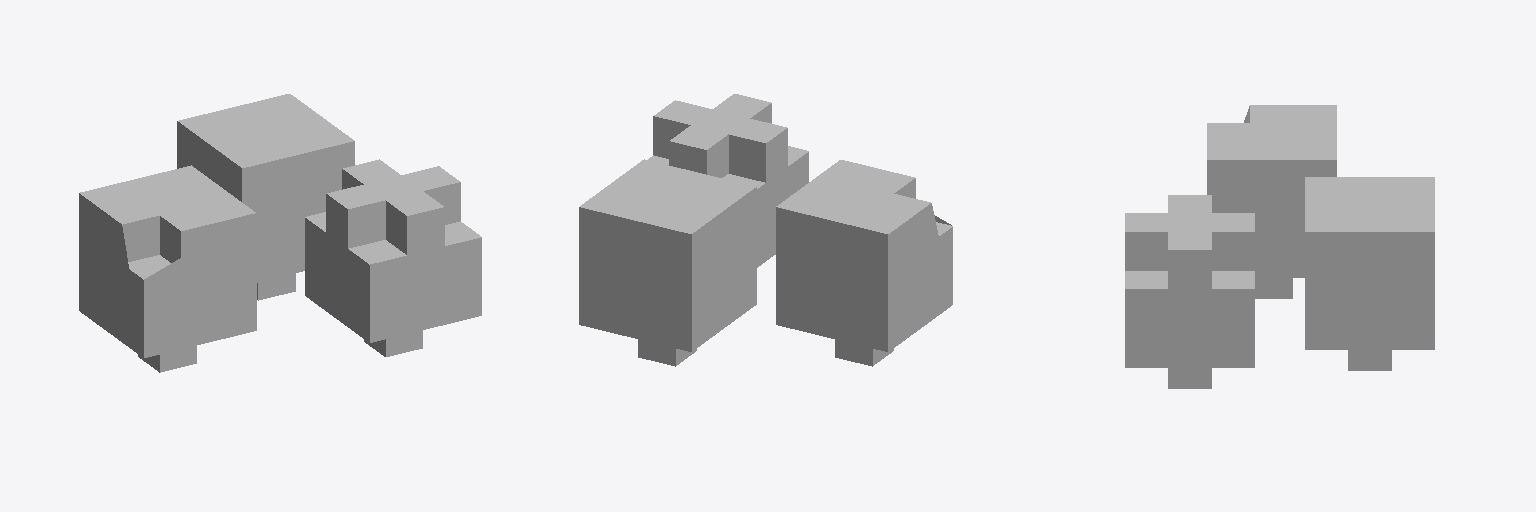
Rendered from minegistics_tree_4.obj.
3 renders of one model, left to right at view 1: azimuth 30°, elevation 25°; view 2: azimuth 150°, elevation 25°; view 3: azimuth 270°, elevation 25°, orthographic.
Visible parts, largest first — view 1: tree_5, tree_2, tree_6; view 2: tree_6, tree_5, tree_2; view 3: tree_6, tree_2, tree_5.
Part boxes in pixels (x1,y1,x2,y2): tree_5: (79, 165, 256, 372); tree_2: (305, 159, 481, 356); tree_6: (177, 94, 354, 300); tree_6: (579, 159, 756, 366); tree_5: (776, 160, 952, 366); tree_2: (648, 94, 808, 267); tree_6: (1305, 177, 1434, 370); tree_2: (1125, 195, 1254, 388); tree_5: (1207, 105, 1336, 298).
Size of the model in its own units: 0.9905 by 0.5 by 0.8944.